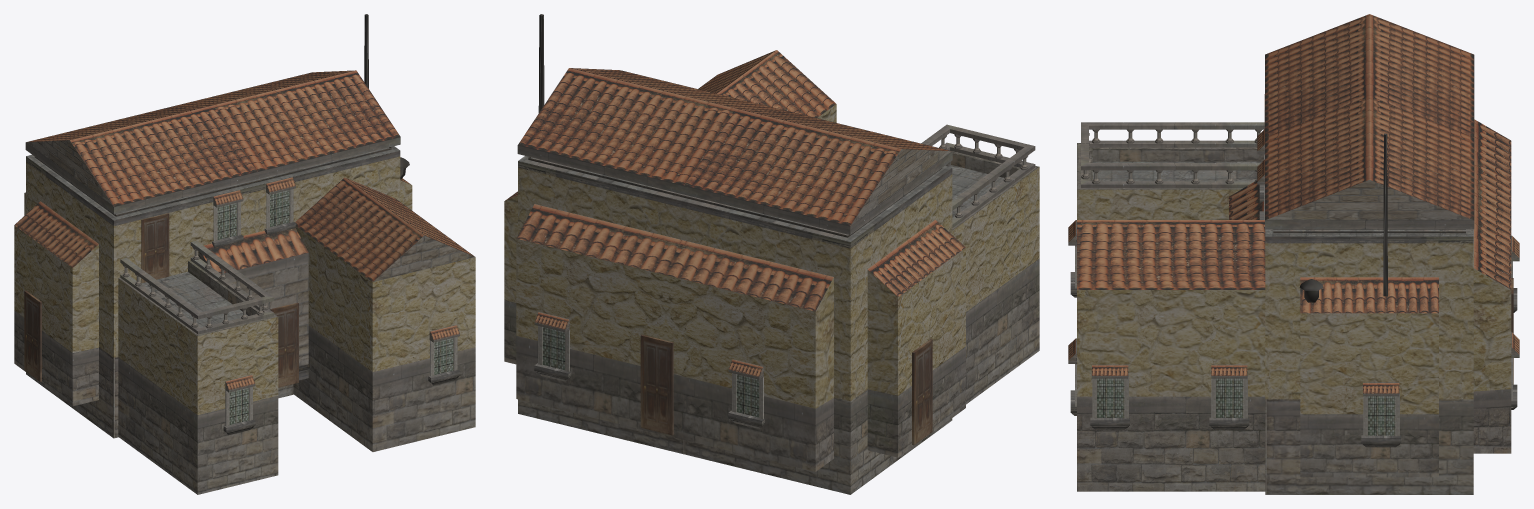
Rendered from barracks.dae.
The picture shows the model from 3 angles, left to right: view 1: azimuth 30°, elevation 25°; view 2: azimuth 150°, elevation 25°; view 3: azimuth 270°, elevation 25°; orthographic projection. The views are drawn at different scales.
Visible parts, largest first — view 1: Barracks; view 2: Barracks; view 3: Barracks.
Boxes of the visible parts, left/top/right/bottom form: Barracks: left=14, top=14, right=475, bottom=494; Barracks: left=504, top=14, right=1039, bottom=494; Barracks: left=1068, top=14, right=1519, bottom=494.
Bounding box in the file's own units: 22.21 × 21.08 × 19.08.
